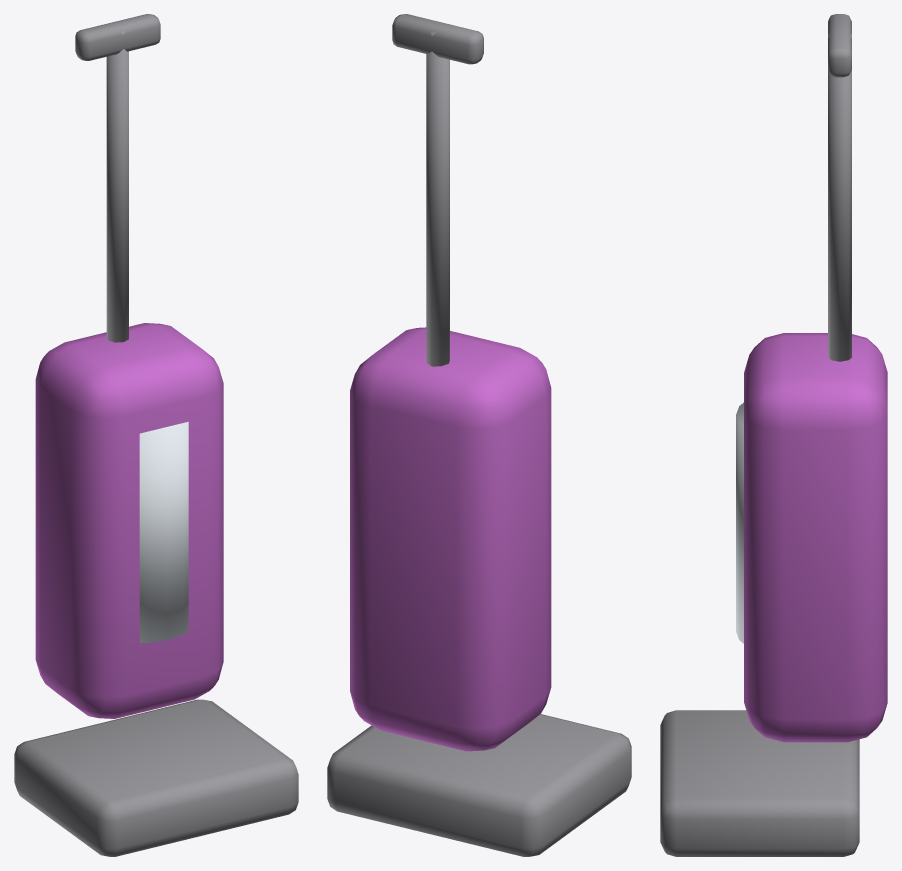
The model's file is vacuum.glb.
3 views of the same model, side by side, from view 1: azimuth 30°, elevation 25°; view 2: azimuth 150°, elevation 25°; view 3: azimuth 270°, elevation 25° (orthographic). The views are drawn at different scales.
Visible parts, largest first — view 1: Cube.001, Cube, Cylinder, Cylinder.001, Cube.002; view 2: Cube.001, Cube, Cylinder.001, Cube.002; view 3: Cube.001, Cube, Cylinder.001, Cylinder, Cube.002.
Part boxes in pixels (x1=…): Cube.001: x1=35, y1=323, x2=223, y2=718; Cube: x1=14, y1=699, x2=298, y2=856; Cylinder: x1=139, y1=421, x2=188, y2=642; Cylinder.001: x1=106, y1=30, x2=128, y2=342; Cube.002: x1=75, y1=14, x2=160, y2=60; Cube.001: x1=350, y1=327, x2=551, y2=751; Cube: x1=327, y1=714, x2=631, y2=856; Cylinder.001: x1=426, y1=31, x2=449, y2=366; Cube.002: x1=392, y1=14, x2=483, y2=64; Cube.001: x1=744, y1=333, x2=887, y2=742; Cube: x1=660, y1=710, x2=859, y2=856; Cylinder.001: x1=828, y1=33, x2=851, y2=361; Cylinder: x1=736, y1=402, x2=743, y2=643; Cube.002: x1=828, y1=14, x2=851, y2=77.
Size of the model in its own units: 0.3 by 1.08 by 0.285.
